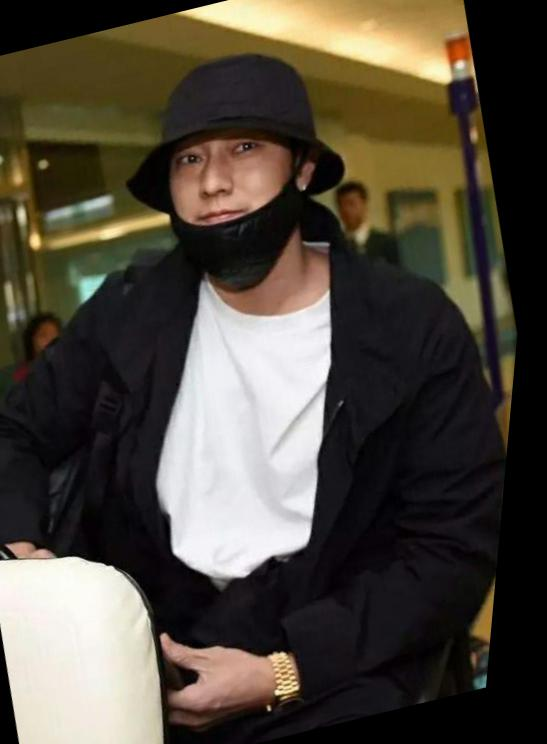NONE: (339, 195, 371, 228), (40, 325, 71, 353)
WRONG: (141, 112, 336, 292)
